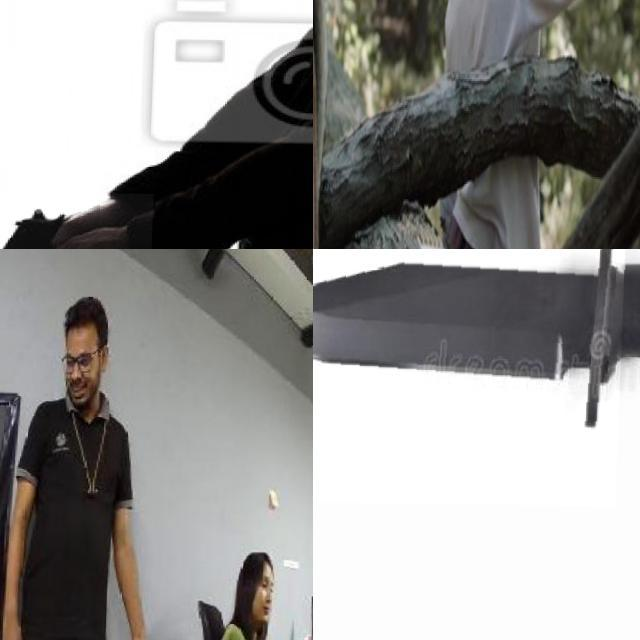-: (313, 249, 629, 505)
gun-knife-thesis - v11 Yolov5 augmented: (0, 191, 157, 249)
